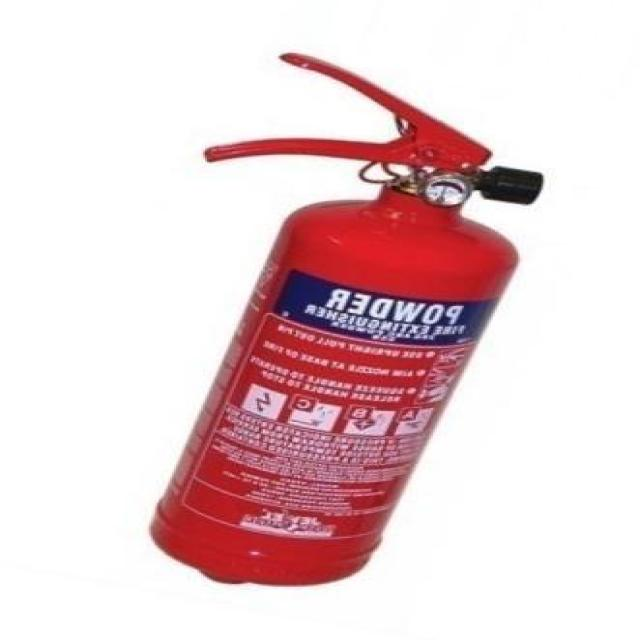fire_extinguisher: (134, 45, 550, 592)
